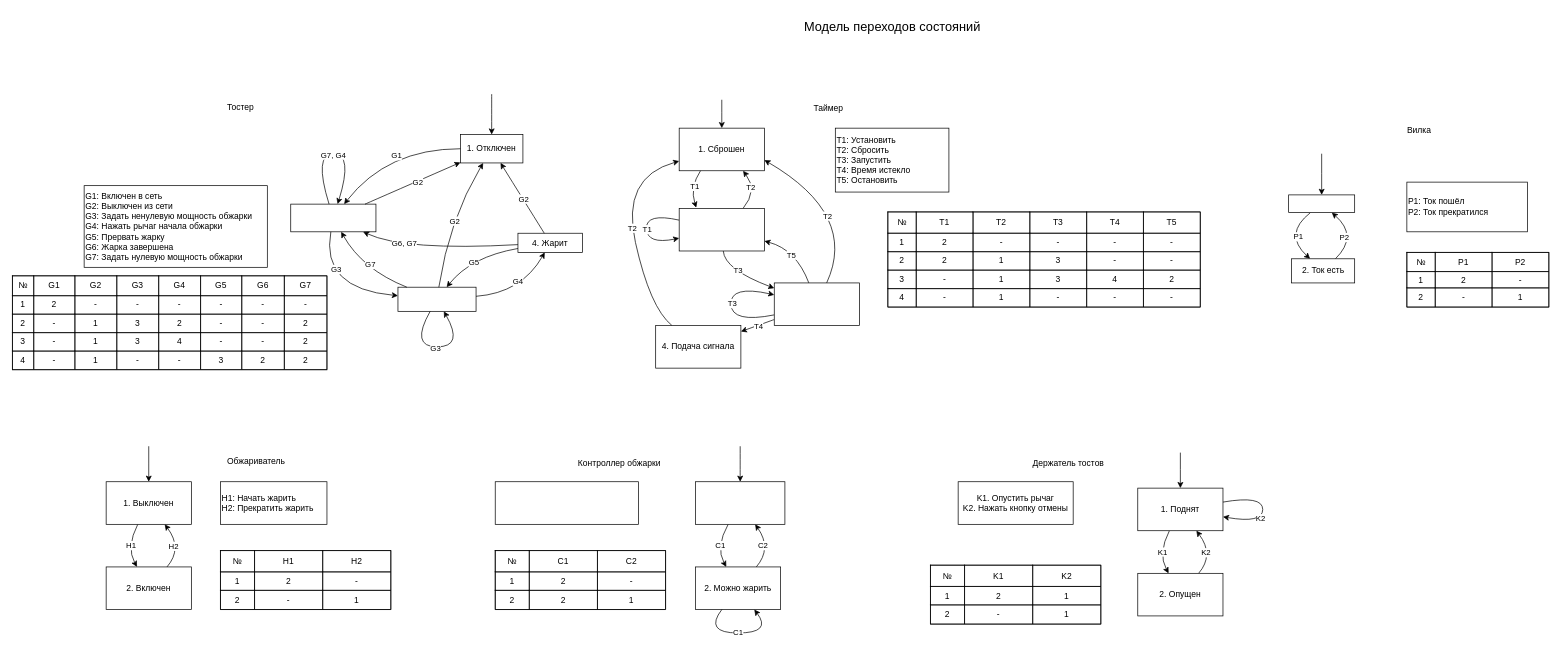
Image size: 1561x648. Some labels were removed from this diagram. Each missing label, with the centre of its shape:
"1. Жарка невозможна" goes at point 740,502.
"1. Тока нет" goes at point 1321,203.
"2. Режим ожидания" goes at point 333,217.
"2. Установлен" goes at point 721,229.
"3. Готов жарить" goes at point 436,298.
"3. Отсчет времени" goes at point 816,304.
"С1. Выбрать ненулевую мощность С2. Выбрать нулевую мозность" goes at point 567,502.
